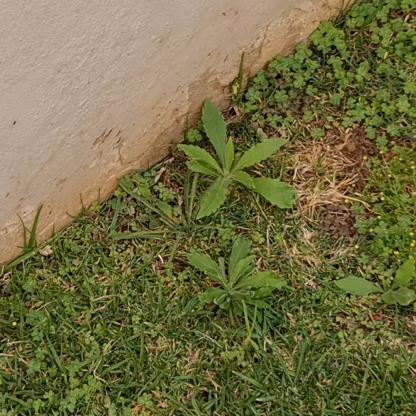Weeds: (176, 100, 300, 218), (190, 237, 286, 324), (335, 258, 415, 313)
